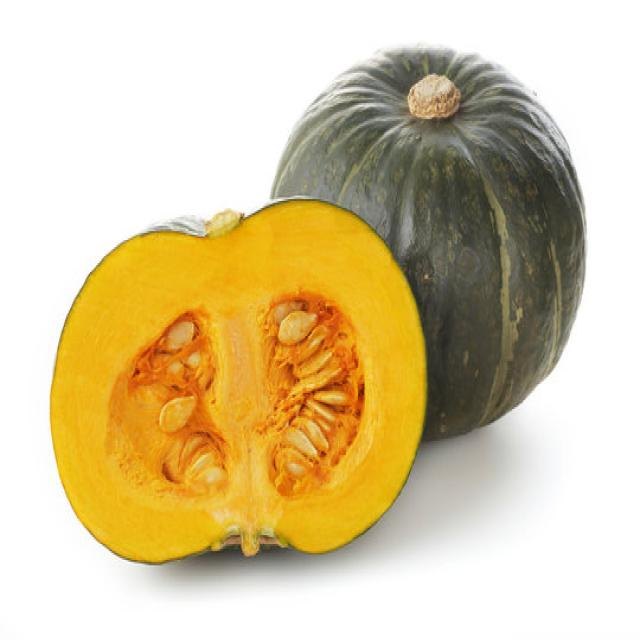Pumpkin: (48, 194, 428, 564), (269, 41, 587, 441)
